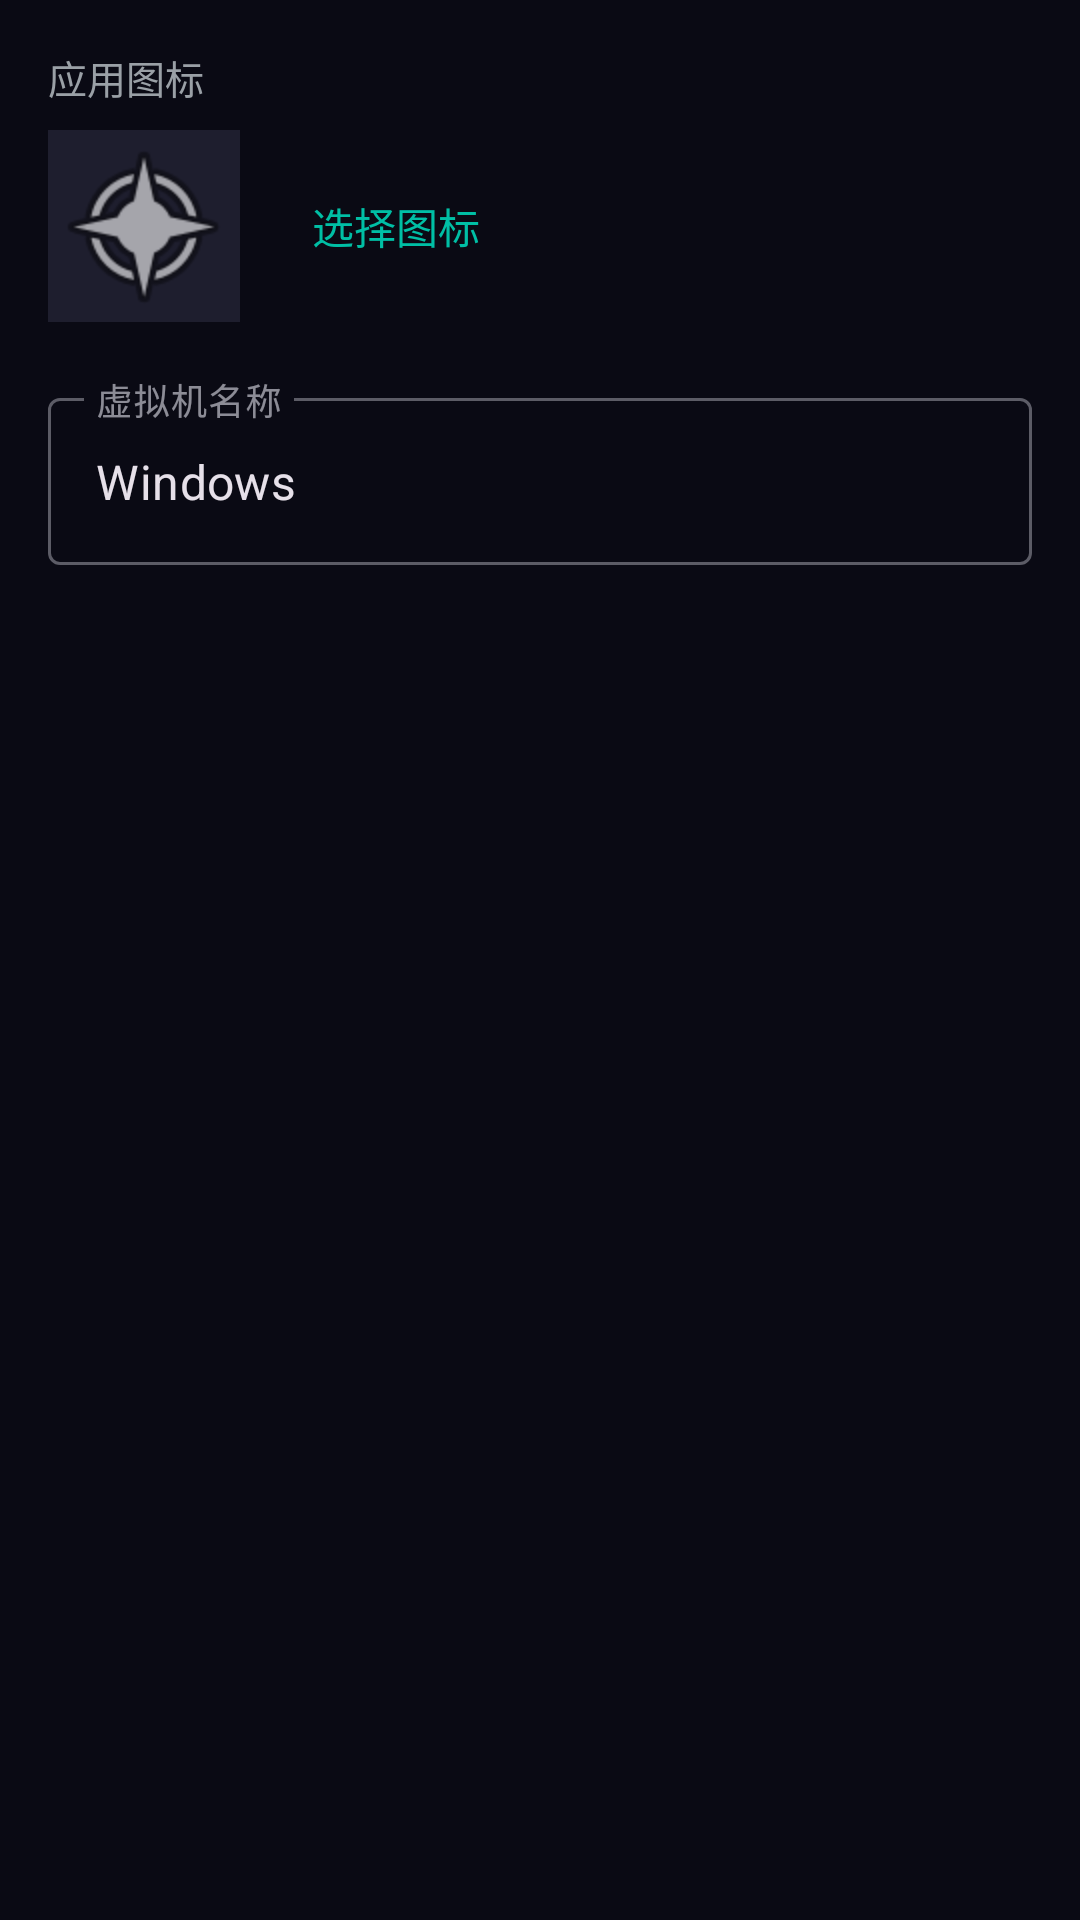

Locate icon controls on the screen. Image size 1080 x 1920, boxes as (x1, y1, x2, y2).
图标预览: (48, 130, 240, 322)
